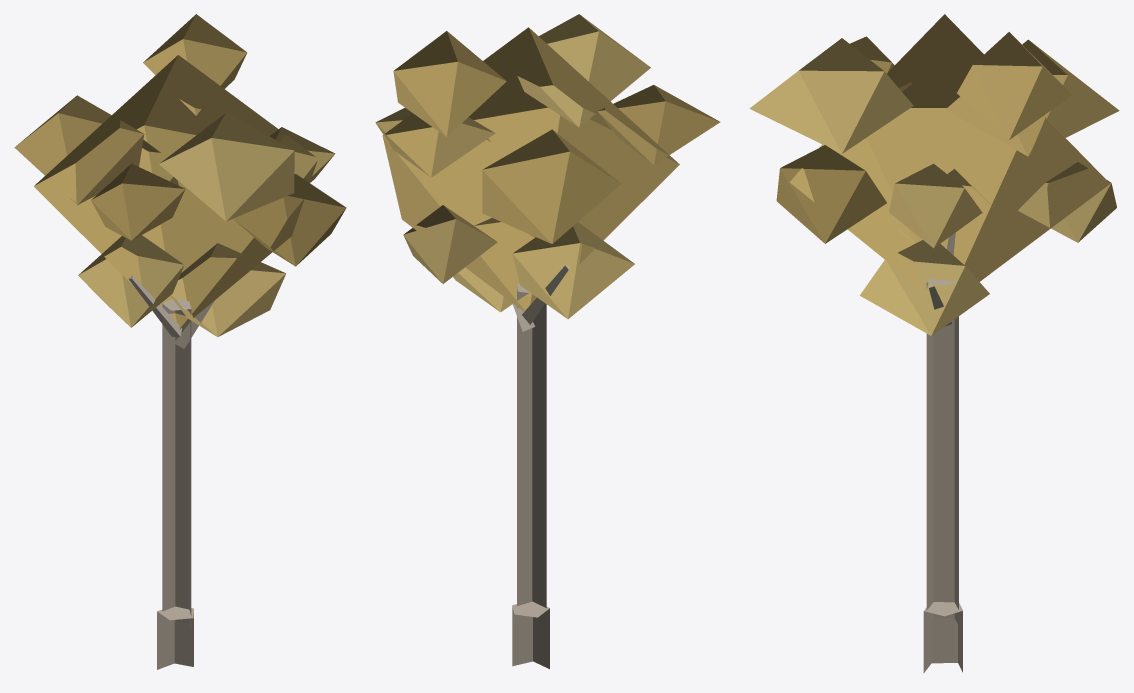
Rendered from tree.temp.birch__autumn.glb.
3 renders of one model, left to right at view 1: azimuth 30°, elevation 25°; view 2: azimuth 150°, elevation 25°; view 3: azimuth 270°, elevation 25°, orthographic. The views are drawn at different scales.
Visible parts, largest first — view 1: tree.temp.birch__autumn; view 2: tree.temp.birch__autumn; view 3: tree.temp.birch__autumn.
Boxes of the visible parts, x1,y1,x2,y2 form: tree.temp.birch__autumn: [14, 14, 346, 669]; tree.temp.birch__autumn: [375, 14, 720, 669]; tree.temp.birch__autumn: [749, 14, 1119, 673].
Size of the model in its own units: 7.2 by 15.29 by 7.73.
